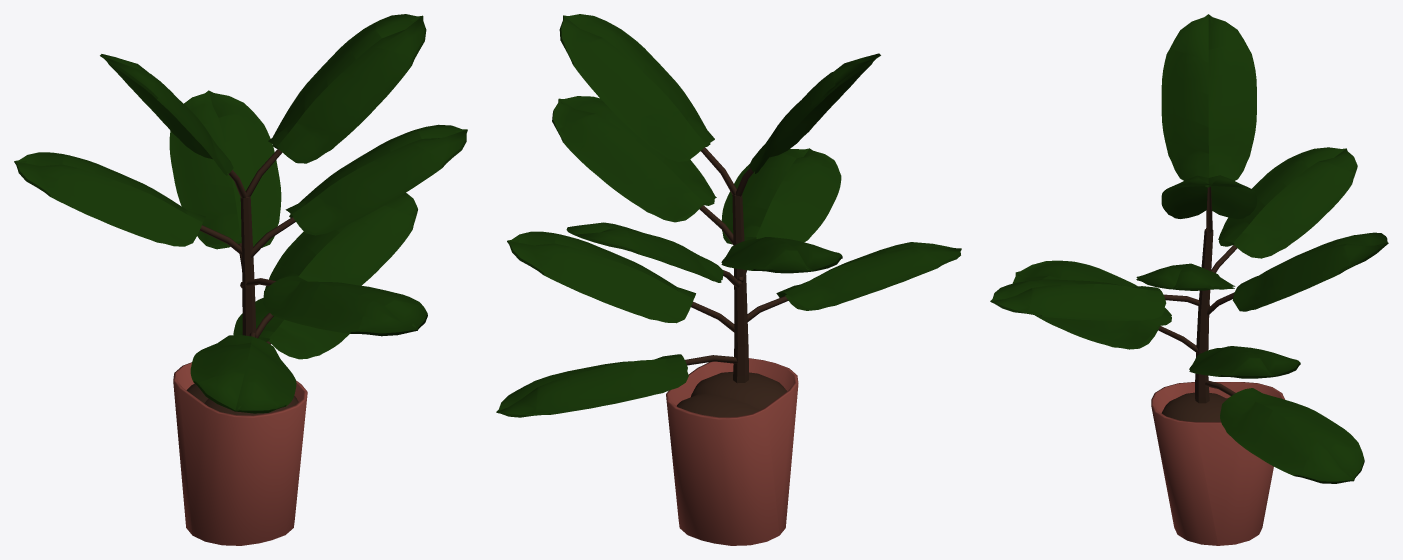
File: Plant.fbx
3 views of the same model, side by side, from view 1: azimuth 30°, elevation 25°; view 2: azimuth 150°, elevation 25°; view 3: azimuth 270°, elevation 25° (orthographic). The views are drawn at different scales.
Visible parts, largest first — view 1: Cube.002, Cylinder.001, Cylinder.006, Cylinder.004, Cylinder.003, Cylinder.009, Cylinder.005, Cylinder.008, Cylinder.002, Cylinder.007, Cylinder, Sphere; view 2: Cube.002, Cylinder.001, Cylinder.004, Cylinder.009, Cylinder.005, Cylinder.007, Cylinder.008, Cylinder.002, Cylinder.006, Sphere, Cylinder.003, Cylinder; view 3: Cylinder.002, Cube.002, Cylinder.007, Cylinder.003, Cylinder.005, Cylinder.006, Cylinder.008, Cylinder.001, Cylinder.009, Cylinder.004, Cylinder, Sphere.
Boxes of the visible parts, bbox=[...] form: Cube.002: bbox=[173, 362, 307, 545]; Cylinder.001: bbox=[245, 14, 426, 197]; Cylinder.006: bbox=[169, 90, 281, 268]; Cylinder.004: bbox=[250, 124, 467, 257]; Cylinder.003: bbox=[14, 152, 242, 255]; Cylinder.009: bbox=[256, 193, 417, 338]; Cylinder.005: bbox=[240, 276, 427, 336]; Cylinder.008: bbox=[190, 332, 296, 413]; Cylinder.002: bbox=[100, 54, 246, 198]; Cylinder.007: bbox=[233, 298, 349, 359]; Cylinder: bbox=[240, 196, 256, 337]; Sphere: bbox=[186, 383, 298, 415]; Cube.002: bbox=[666, 358, 798, 545]; Cylinder.001: bbox=[559, 14, 736, 195]; Cylinder.004: bbox=[552, 96, 733, 244]; Cylinder.009: bbox=[507, 231, 734, 332]; Cylinder.005: bbox=[721, 148, 841, 283]; Cylinder.007: bbox=[496, 354, 737, 417]; Cylinder.008: bbox=[747, 242, 961, 321]; Cylinder.002: bbox=[736, 53, 880, 196]; Cylinder.006: bbox=[566, 222, 740, 287]; Sphere: bbox=[677, 372, 786, 417]; Cylinder.003: bbox=[721, 237, 842, 273]; Cylinder: bbox=[732, 194, 748, 383]; Cylinder.002: bbox=[1161, 14, 1256, 224]; Cube.002: bbox=[1151, 382, 1284, 545]; Cylinder.007: bbox=[1205, 380, 1364, 483]; Cylinder.003: bbox=[1211, 147, 1357, 272]; Cylinder.005: bbox=[990, 279, 1209, 320]; Cylinder.006: bbox=[1207, 232, 1388, 315]; Cylinder.008: bbox=[1012, 260, 1201, 353]; Cylinder.001: bbox=[1161, 175, 1256, 232]; Cylinder.009: bbox=[1189, 346, 1300, 378]; Cylinder.004: bbox=[1136, 263, 1235, 290]; Cylinder: bbox=[1195, 229, 1213, 403]; Sphere: bbox=[1161, 392, 1227, 421].
Bounding box in the file's own units: 328 × 437 × 351.
